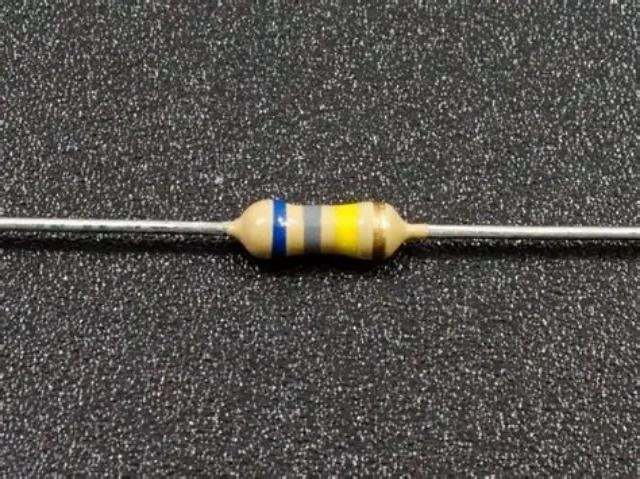blue: (274, 201, 286, 254)
gold: (368, 200, 387, 262)
grey: (299, 203, 324, 258)
resistor: (185, 159, 446, 304)
yellow: (333, 200, 360, 258)
